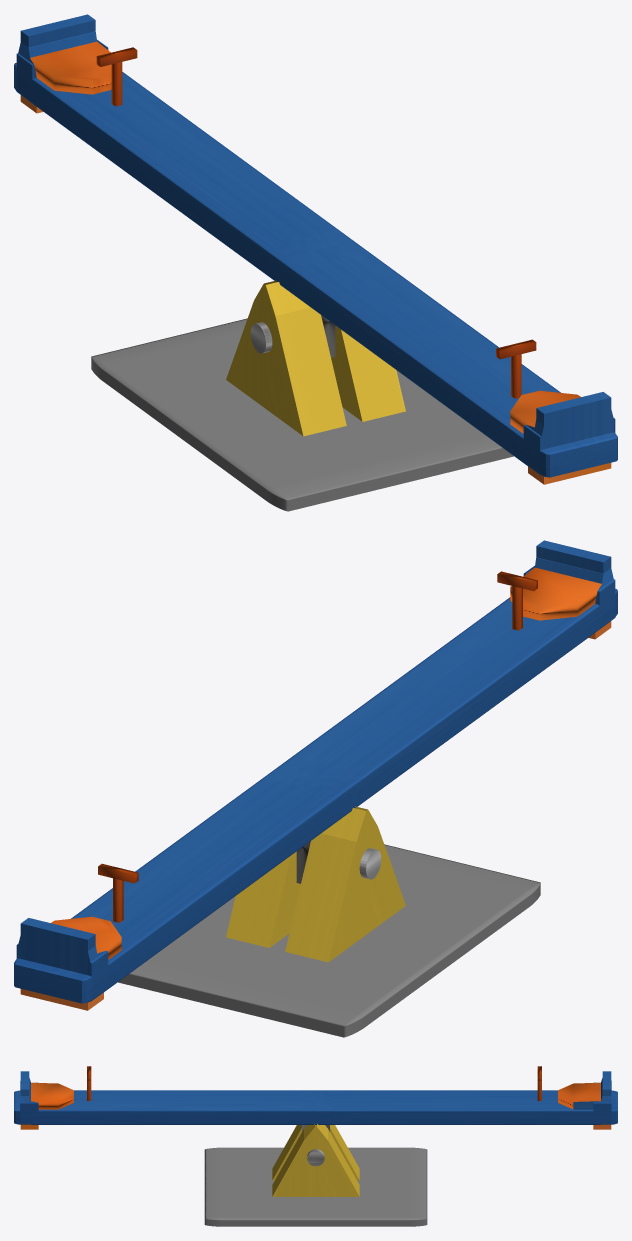
The model's file is see_saw.glb.
3 views of the same model, one above another, from view 1: azimuth 30°, elevation 25°; view 2: azimuth 150°, elevation 25°; view 3: azimuth 270°, elevation 25° (orthographic). The views are drawn at different scales.
Visible parts, largest first — view 1: Cube.001, Cube, Cube.006, Cube.003, Cube.002, Cube.005; view 2: Cube.001, Cube, Cube.006, Cube.003, Cube.002, Cube.005; view 3: Cube.001, Cube, Cube.006, Cube.003, Cube.002, Cylinder.001.
Boxes of the visible parts, box(x1,y1,x2,y2) form: Cube.001: box(14, 14, 617, 477); Cube: box(91, 318, 513, 511); Cube.006: box(226, 280, 405, 436); Cube.003: box(30, 41, 580, 433); Cube.002: box(96, 47, 536, 398); Cube.005: box(20, 95, 611, 484); Cube.001: box(14, 540, 617, 1003); Cube: box(118, 844, 540, 1037); Cube.006: box(226, 806, 405, 962); Cube.003: box(51, 567, 601, 959); Cube.002: box(98, 571, 537, 922); Cube.005: box(20, 621, 611, 1010); Cube.001: box(14, 1071, 617, 1124); Cube: box(204, 1147, 427, 1226); Cube.006: box(272, 1124, 359, 1196); Cube.003: box(31, 1082, 600, 1109); Cube.002: box(87, 1066, 541, 1100); Cylinder.001: box(307, 1149, 324, 1166).
Size of the model in its own units: 0.9382 by 0.7237 by 3.3.
7 materials, 5 textured.
